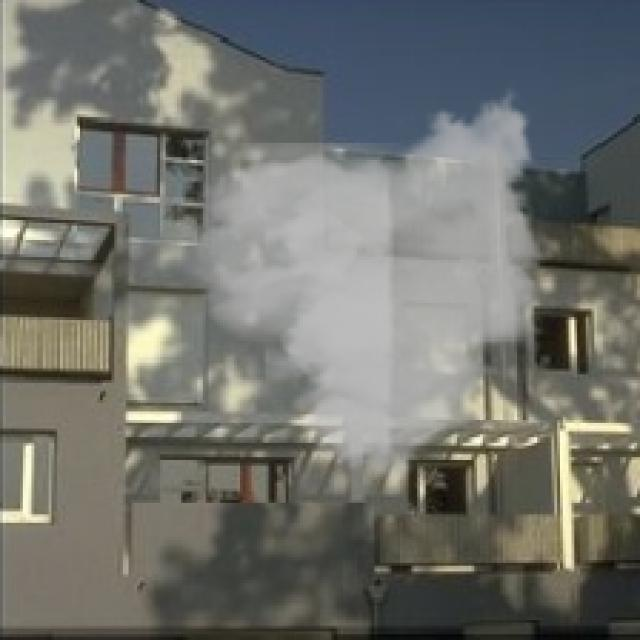smoke: (177, 80, 557, 494)
